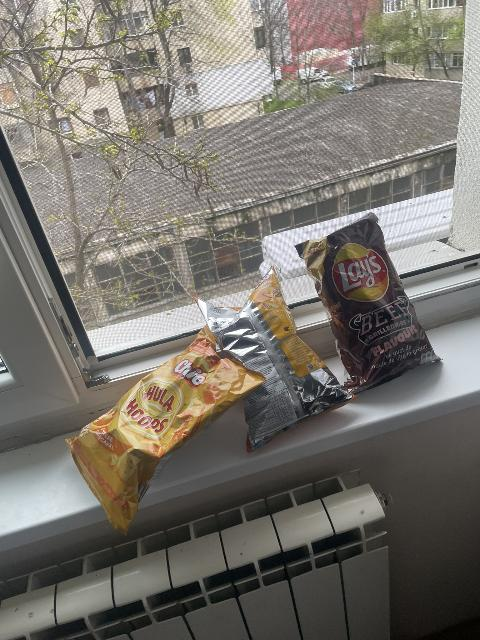Chio Cascaval 125g: (196, 272, 343, 448)
Chio Hula Hoops Cheese 70g: (67, 326, 270, 527)
Lays Beef Grilled Ribs 125g: (301, 216, 441, 390)
